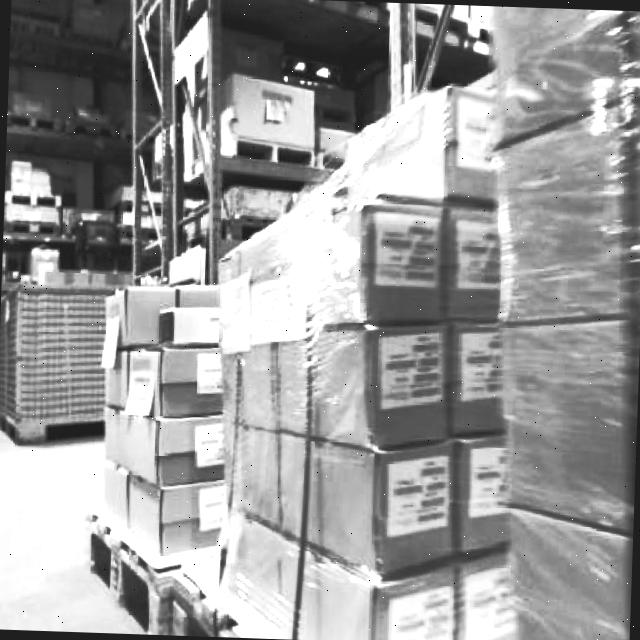ground: (0, 429, 144, 633)
pallet: (77, 0, 640, 640), (78, 500, 527, 640), (80, 275, 235, 635), (3, 0, 177, 290), (78, 500, 298, 638), (0, 277, 123, 447)
